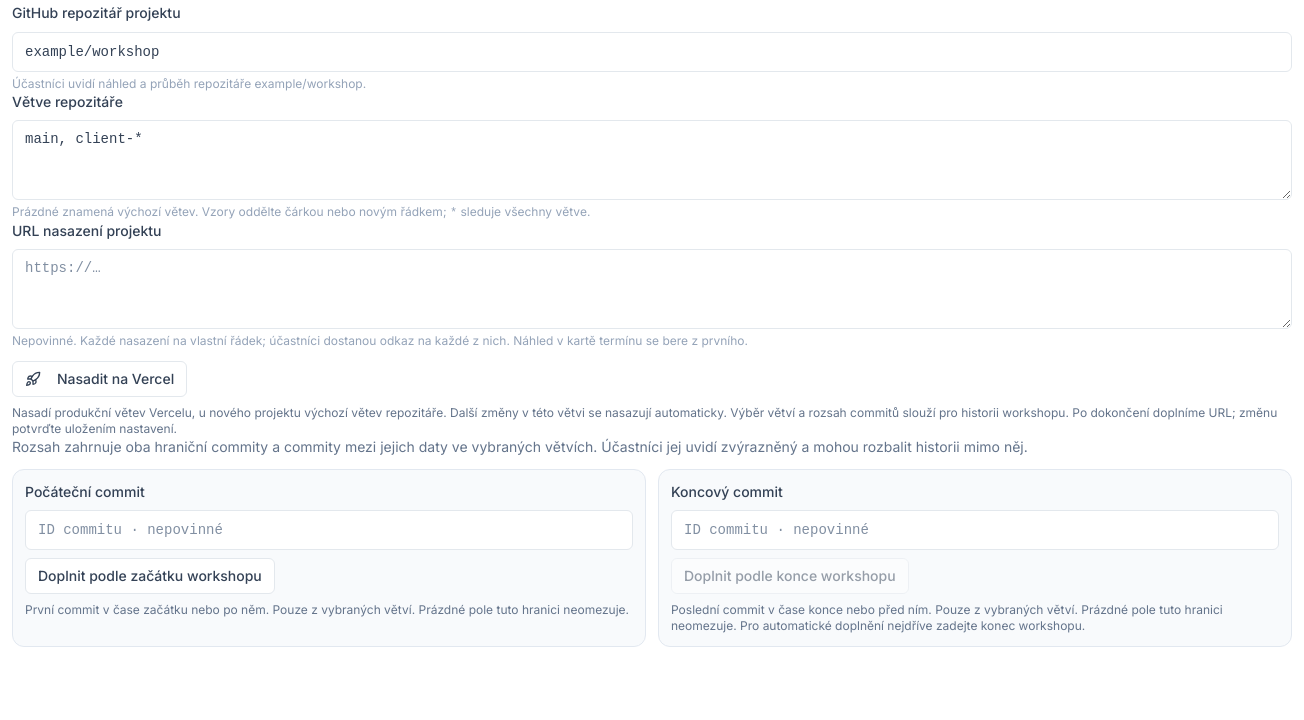
Test: independent repository commit controls › shows metadata for a manually typed ID and disables end autofill without an end date
Check: the button "Doplnit podle konce workshopu" is disabled, box x1=671 y1=558 x2=909 y2=594
Type "aaaaaaa" into the field labelled "Počáteční commit".
click(329, 530); type("aaaaaaa")  # box x1=25 y1=510 x2=633 y2=550
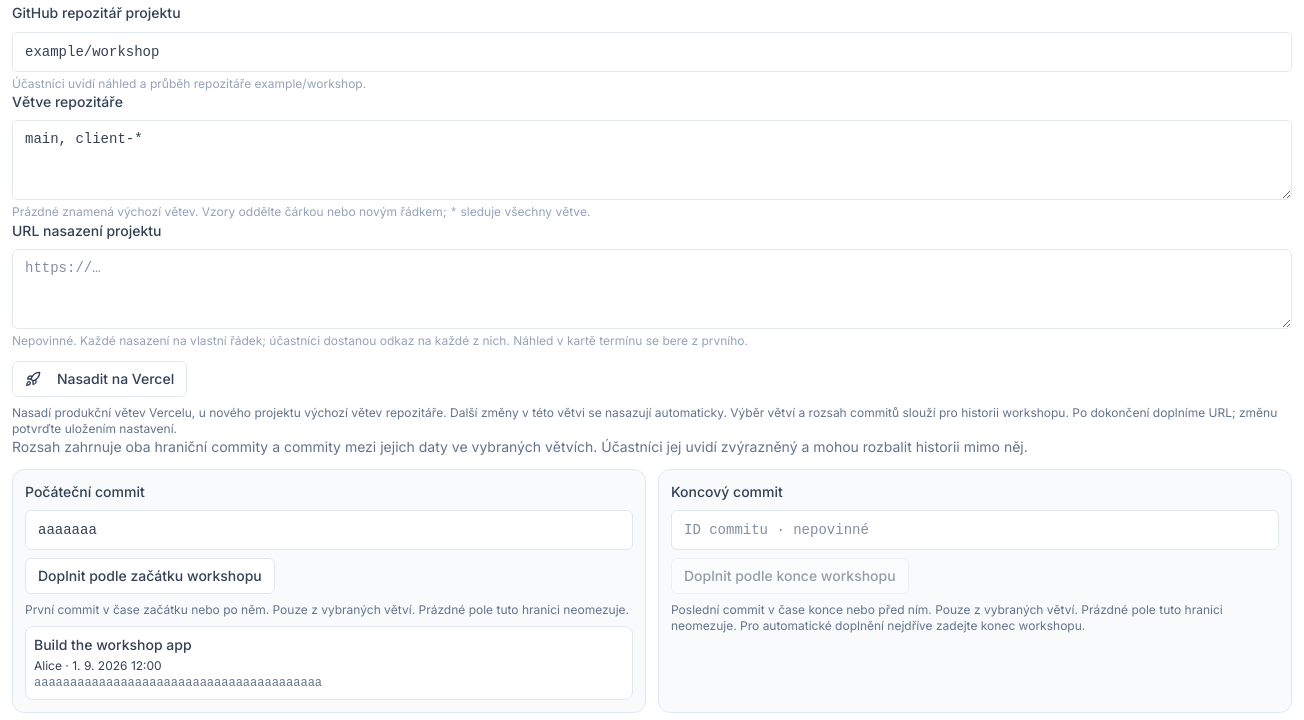
Check: the text "Build the workshop app" is shown, box x1=34 y1=636 x2=192 y2=653
